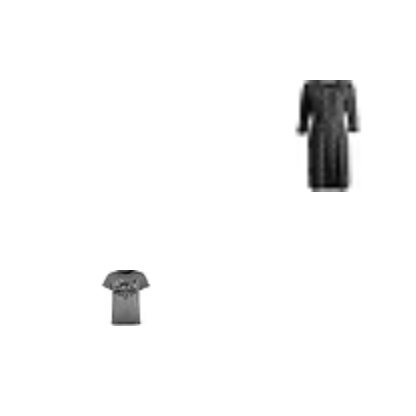Dress: (272, 80, 384, 192)
T-shirt/top: (98, 270, 154, 326)
